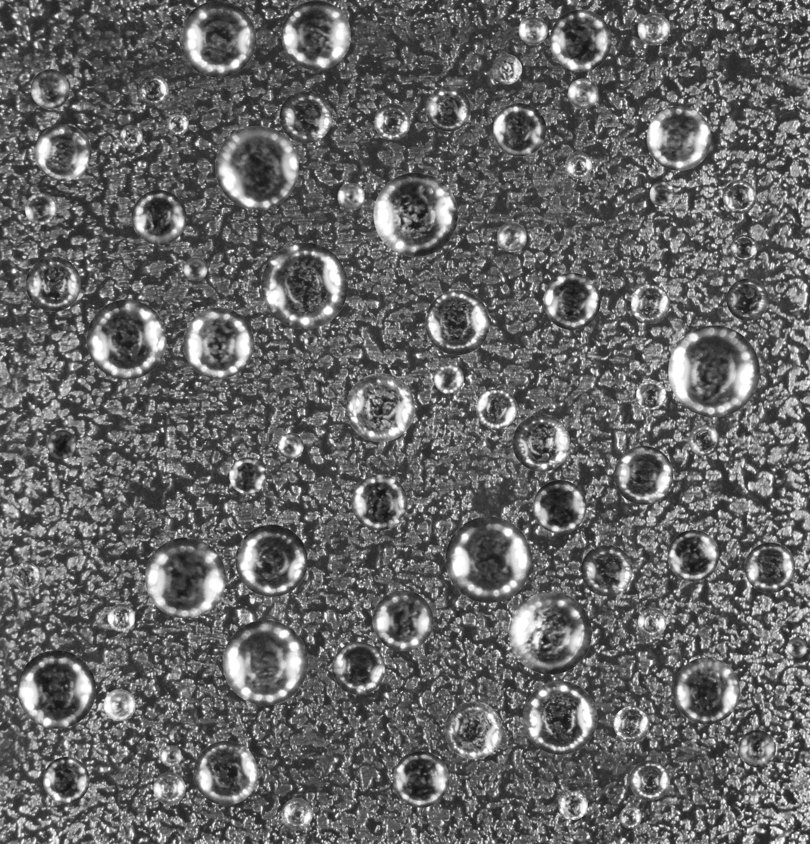Bubble: (668, 325, 759, 417), (261, 242, 347, 329), (445, 516, 531, 602), (222, 620, 308, 705), (373, 172, 457, 256), (215, 126, 298, 209), (509, 591, 591, 674), (145, 537, 225, 618), (86, 299, 166, 379), (17, 650, 95, 728), (179, 0, 256, 77), (523, 681, 597, 754), (235, 524, 307, 596), (183, 307, 254, 378), (281, 0, 350, 70), (346, 373, 414, 441), (673, 657, 740, 724), (425, 290, 489, 355), (646, 106, 711, 170), (193, 741, 257, 805), (549, 9, 611, 71), (372, 590, 433, 651), (614, 445, 673, 504), (444, 701, 502, 759), (512, 414, 570, 471), (543, 272, 600, 329), (392, 751, 449, 807), (35, 124, 91, 180), (351, 474, 407, 530), (25, 256, 80, 311), (131, 190, 186, 244), (279, 90, 332, 143), (533, 480, 586, 533), (493, 103, 546, 156), (332, 642, 385, 694), (581, 544, 632, 596), (667, 530, 719, 581), (744, 542, 795, 593), (43, 757, 89, 803), (425, 86, 470, 131), (726, 278, 768, 320), (476, 388, 517, 429), (629, 760, 670, 800), (30, 69, 70, 108), (631, 284, 670, 323), (738, 730, 775, 767), (229, 457, 266, 494), (374, 103, 410, 139), (613, 706, 649, 742), (723, 180, 756, 213), (637, 13, 670, 45), (103, 689, 135, 721), (153, 772, 185, 804), (24, 192, 56, 224), (281, 798, 312, 829), (688, 425, 719, 455), (138, 75, 168, 105), (433, 363, 463, 393), (568, 78, 598, 108), (492, 54, 522, 84), (636, 379, 666, 409), (558, 790, 587, 820), (497, 222, 526, 252), (518, 15, 547, 44), (637, 608, 666, 637), (47, 430, 76, 459), (12, 561, 41, 590), (107, 603, 135, 631), (730, 234, 757, 261), (337, 183, 364, 210), (565, 152, 592, 178), (277, 432, 303, 458), (649, 181, 674, 206), (183, 257, 207, 280), (119, 125, 142, 148), (619, 806, 641, 828), (167, 113, 188, 135), (160, 745, 181, 766), (787, 637, 807, 657), (304, 334, 317, 348)
